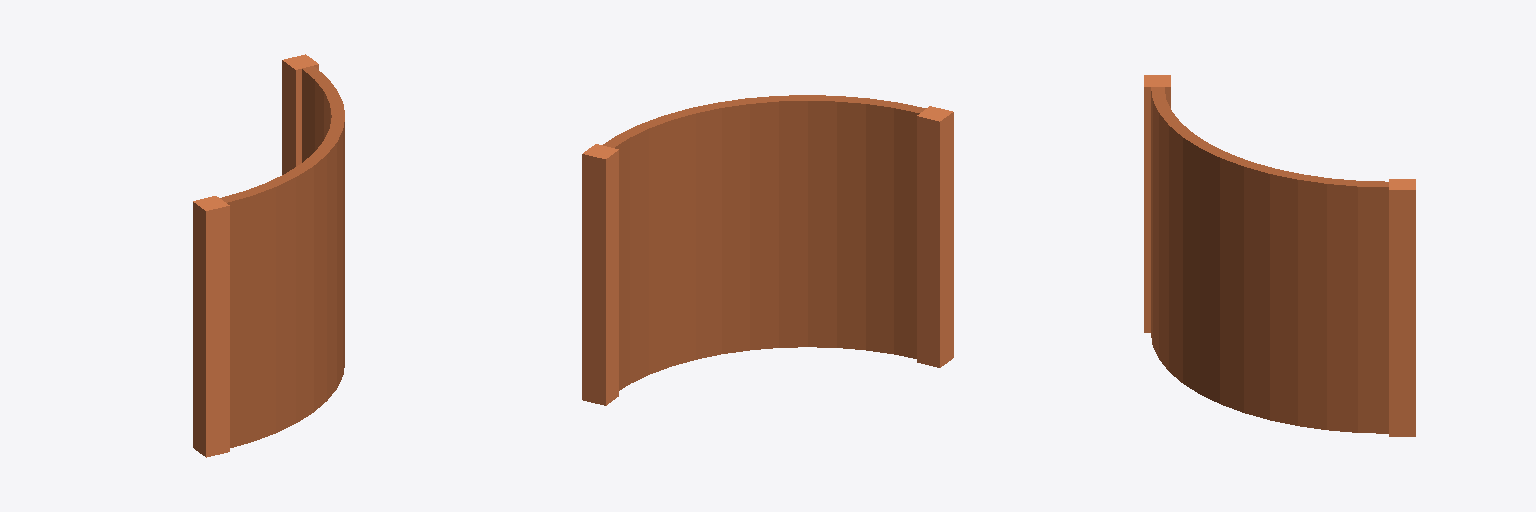
The model's file is wallWoodCurved.obj.
3 views of the same model, side by side, from view 1: azimuth 30°, elevation 25°; view 2: azimuth 150°, elevation 25°; view 3: azimuth 270°, elevation 25° (orthographic).
Parts seen in each view (by area): view 1: wallWoodCurved; view 2: wallWoodCurved; view 3: wallWoodCurved.
Part boxes in pixels (x1,y1,x2,y2): wallWoodCurved: (193, 54, 344, 457); wallWoodCurved: (582, 95, 953, 405); wallWoodCurved: (1144, 75, 1415, 436).
Size of the model in its own units: 1 by 1 by 1.